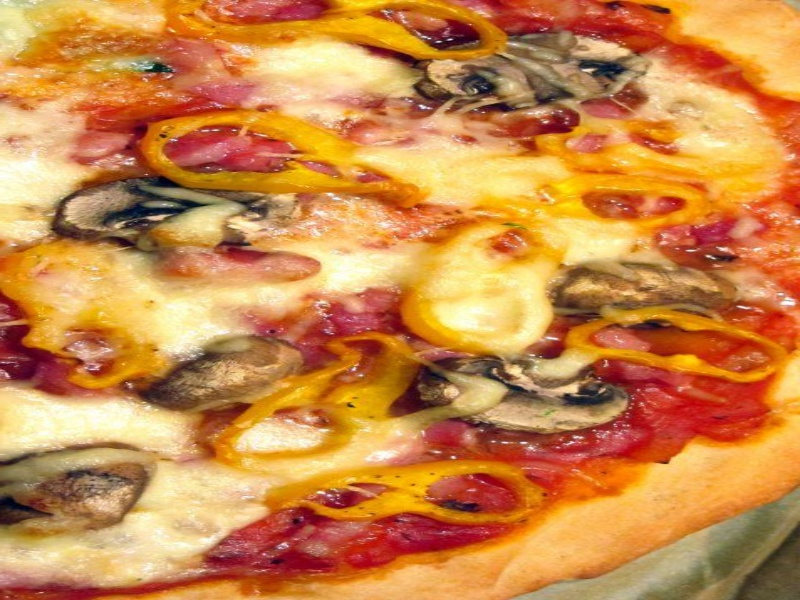champignon: (407, 344, 640, 439), (425, 28, 655, 114), (55, 171, 279, 259), (140, 333, 314, 416)
